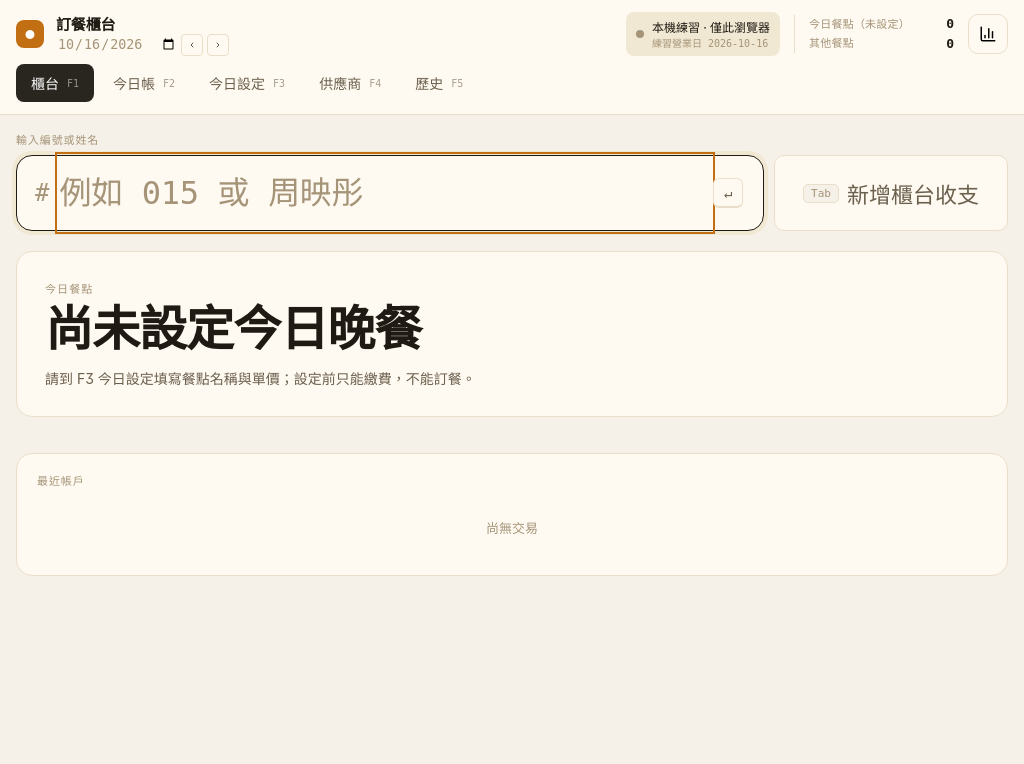
Test: 完整 App 跨功能整合與真實 Persist 測試 › 保留櫃台草稿直到確認捨棄，並在取消離開後繼續編輯
Step 1. Type "0090" into the field named "輸入學員編號或姓名" → coordinates (385, 193), box [60,156,711,230]
Then press Enter
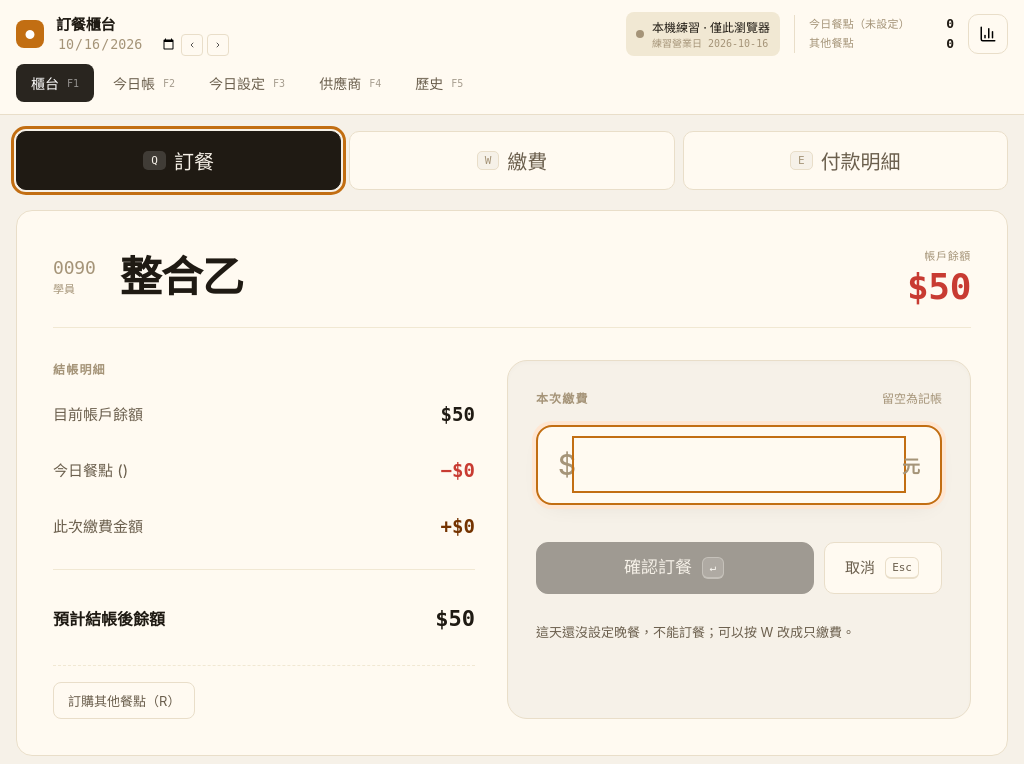
Step 2. Press F3
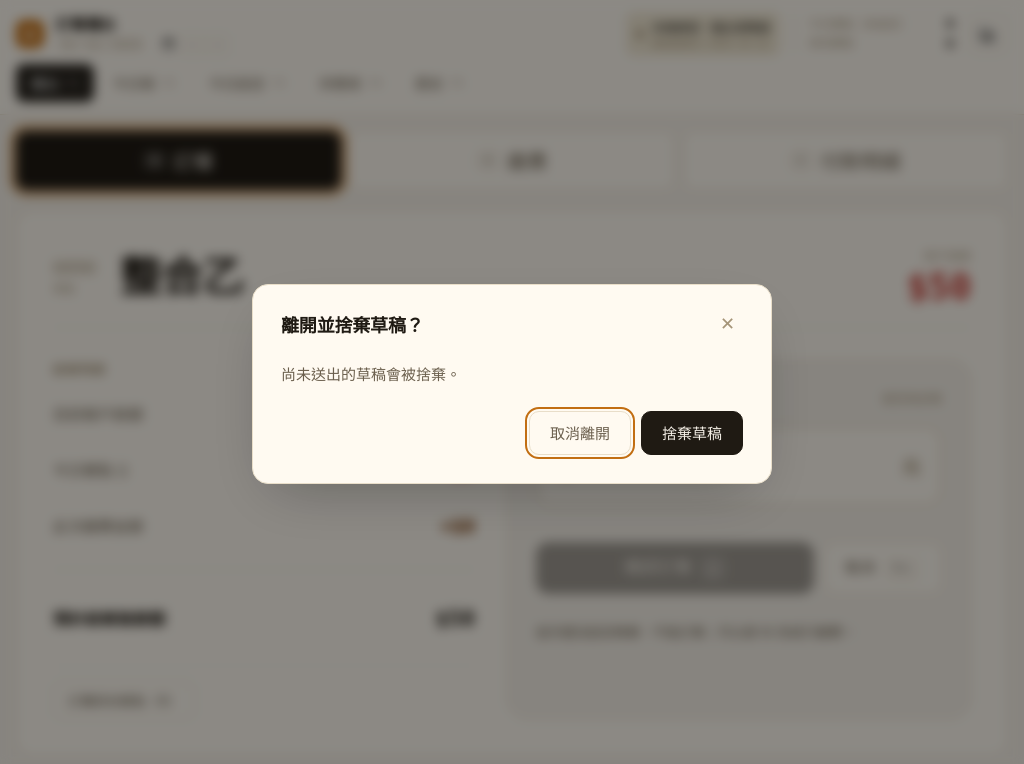
Expected: the dialog "離開並捨棄草稿？" is shown, [252,284,772,484]
Step 3. Click the button "取消離開" → coordinates (580, 433), box [529,411,631,455]
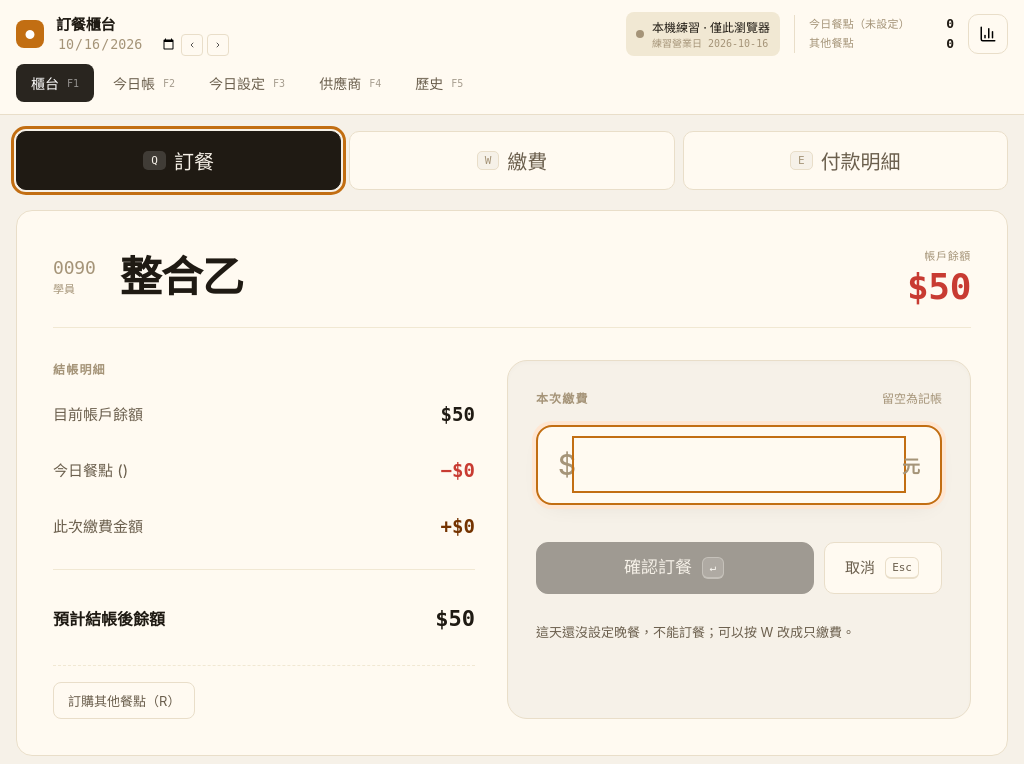
Expected: the text "整合乙" is shown, [120,251,243,302]
Step 4. Press F3
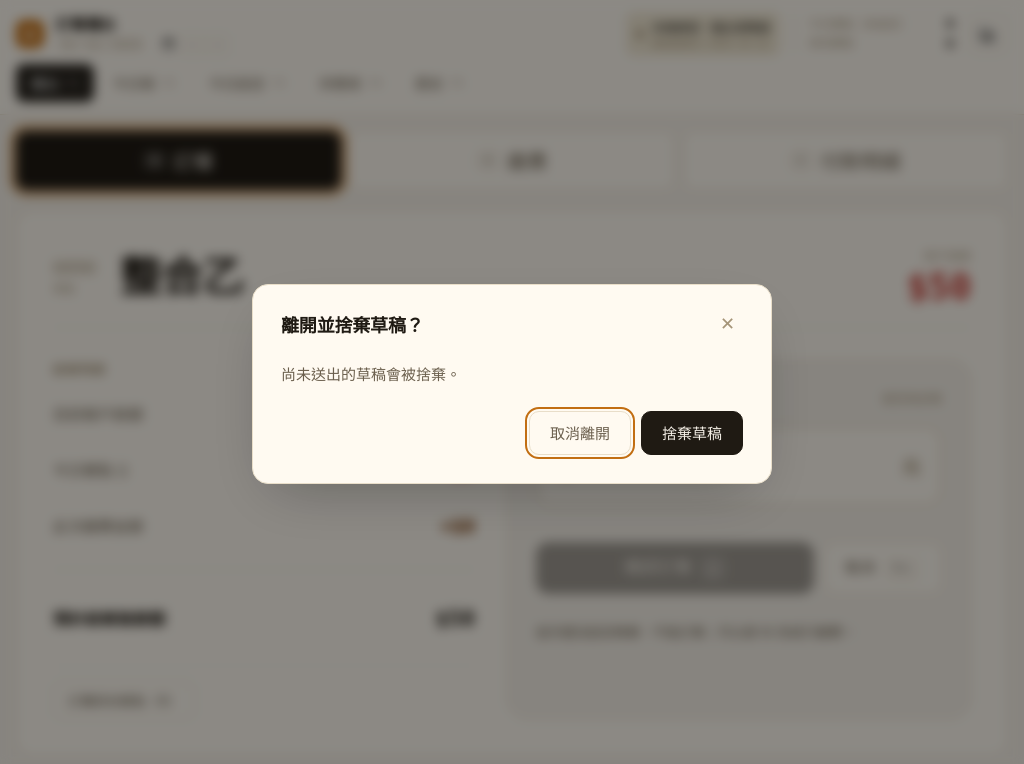
Step 5. Click the button "捨棄草稿" → coordinates (692, 433), box [641,411,743,455]
(page scrolled)
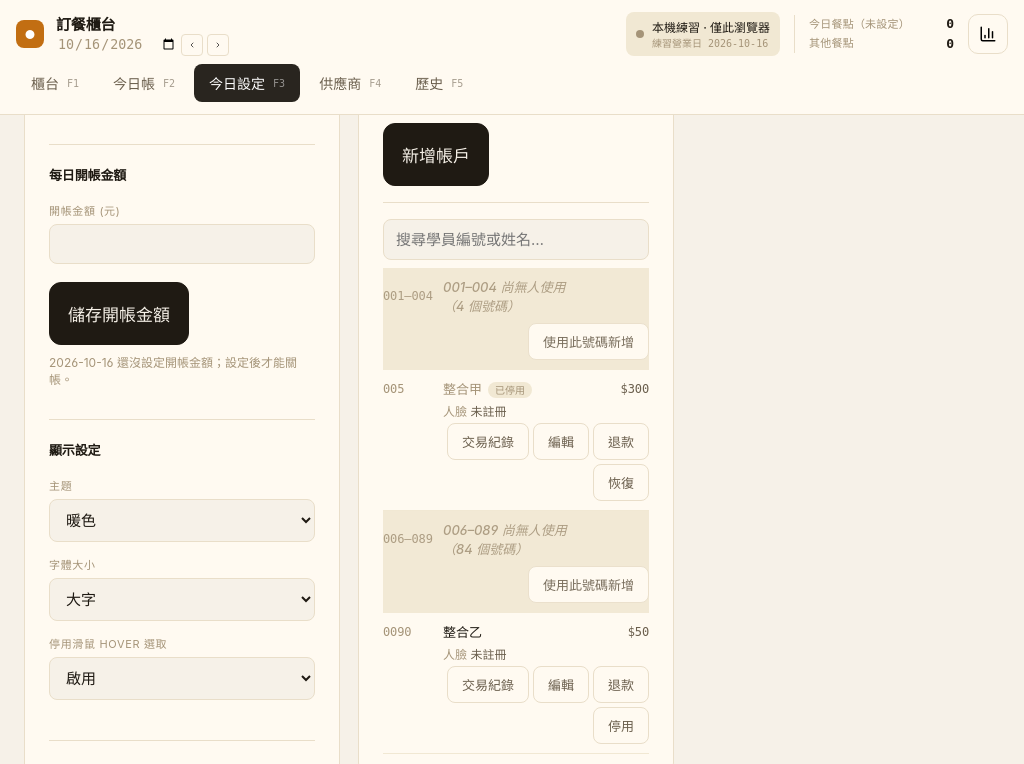
Expected: the button with aria-label "編輯 005" is shown, [533,423,589,460]
